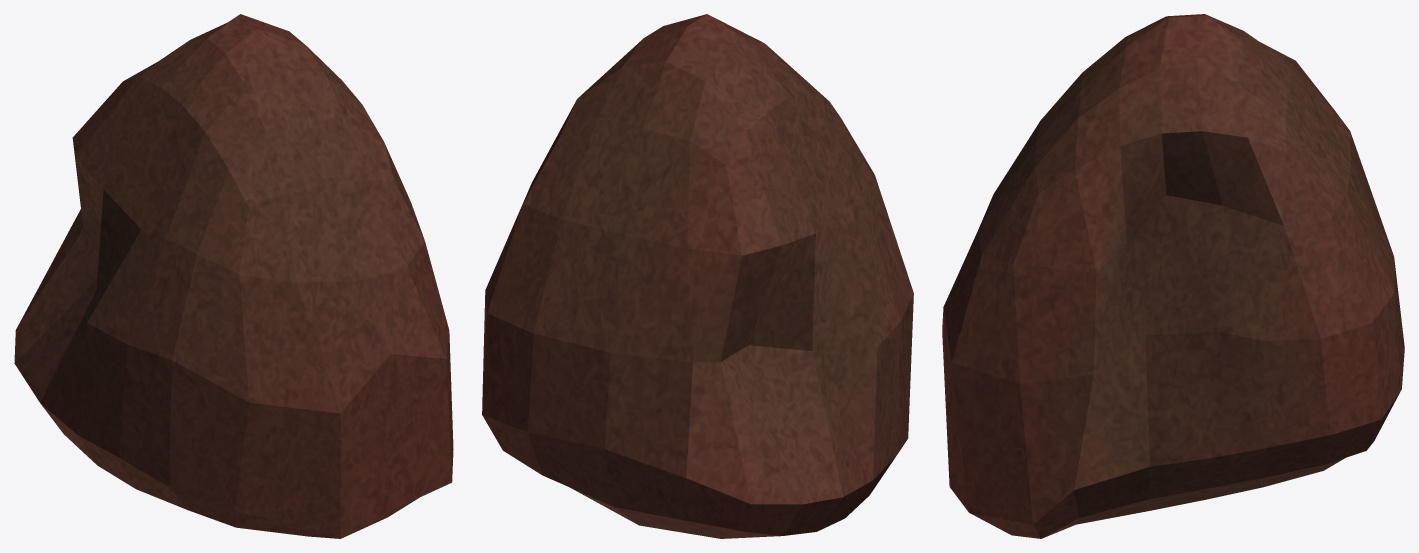
File: AnotherAsteroid.fbx
The picture shows the model from 3 angles, left to right: view 1: azimuth 30°, elevation 25°; view 2: azimuth 150°, elevation 25°; view 3: azimuth 270°, elevation 25°; orthographic projection. The views are drawn at different scales.
Visible parts, largest first — view 1: Asteroid; view 2: Asteroid; view 3: Asteroid.
Boxes of the visible parts, box(x1,y1,x2,y2) form: Asteroid: box(14, 14, 453, 538); Asteroid: box(482, 14, 913, 538); Asteroid: box(942, 14, 1404, 538).
Bounding box in the file's own units: 523 × 738 × 631.
